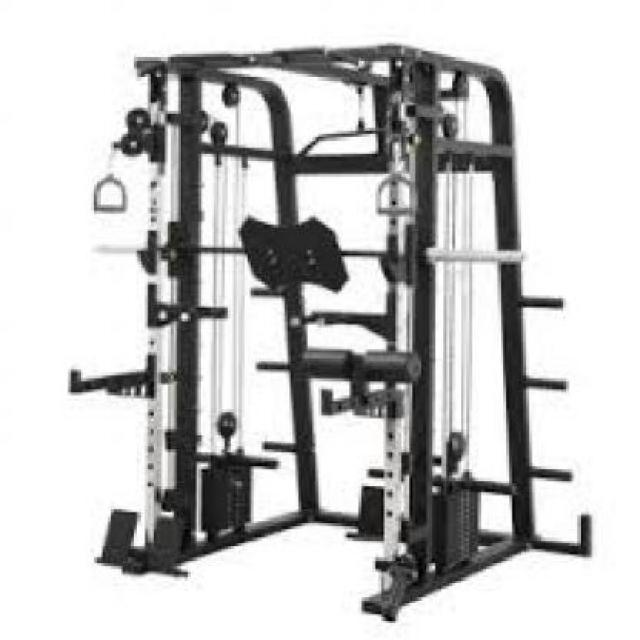smith machine: (70, 41, 596, 624)
